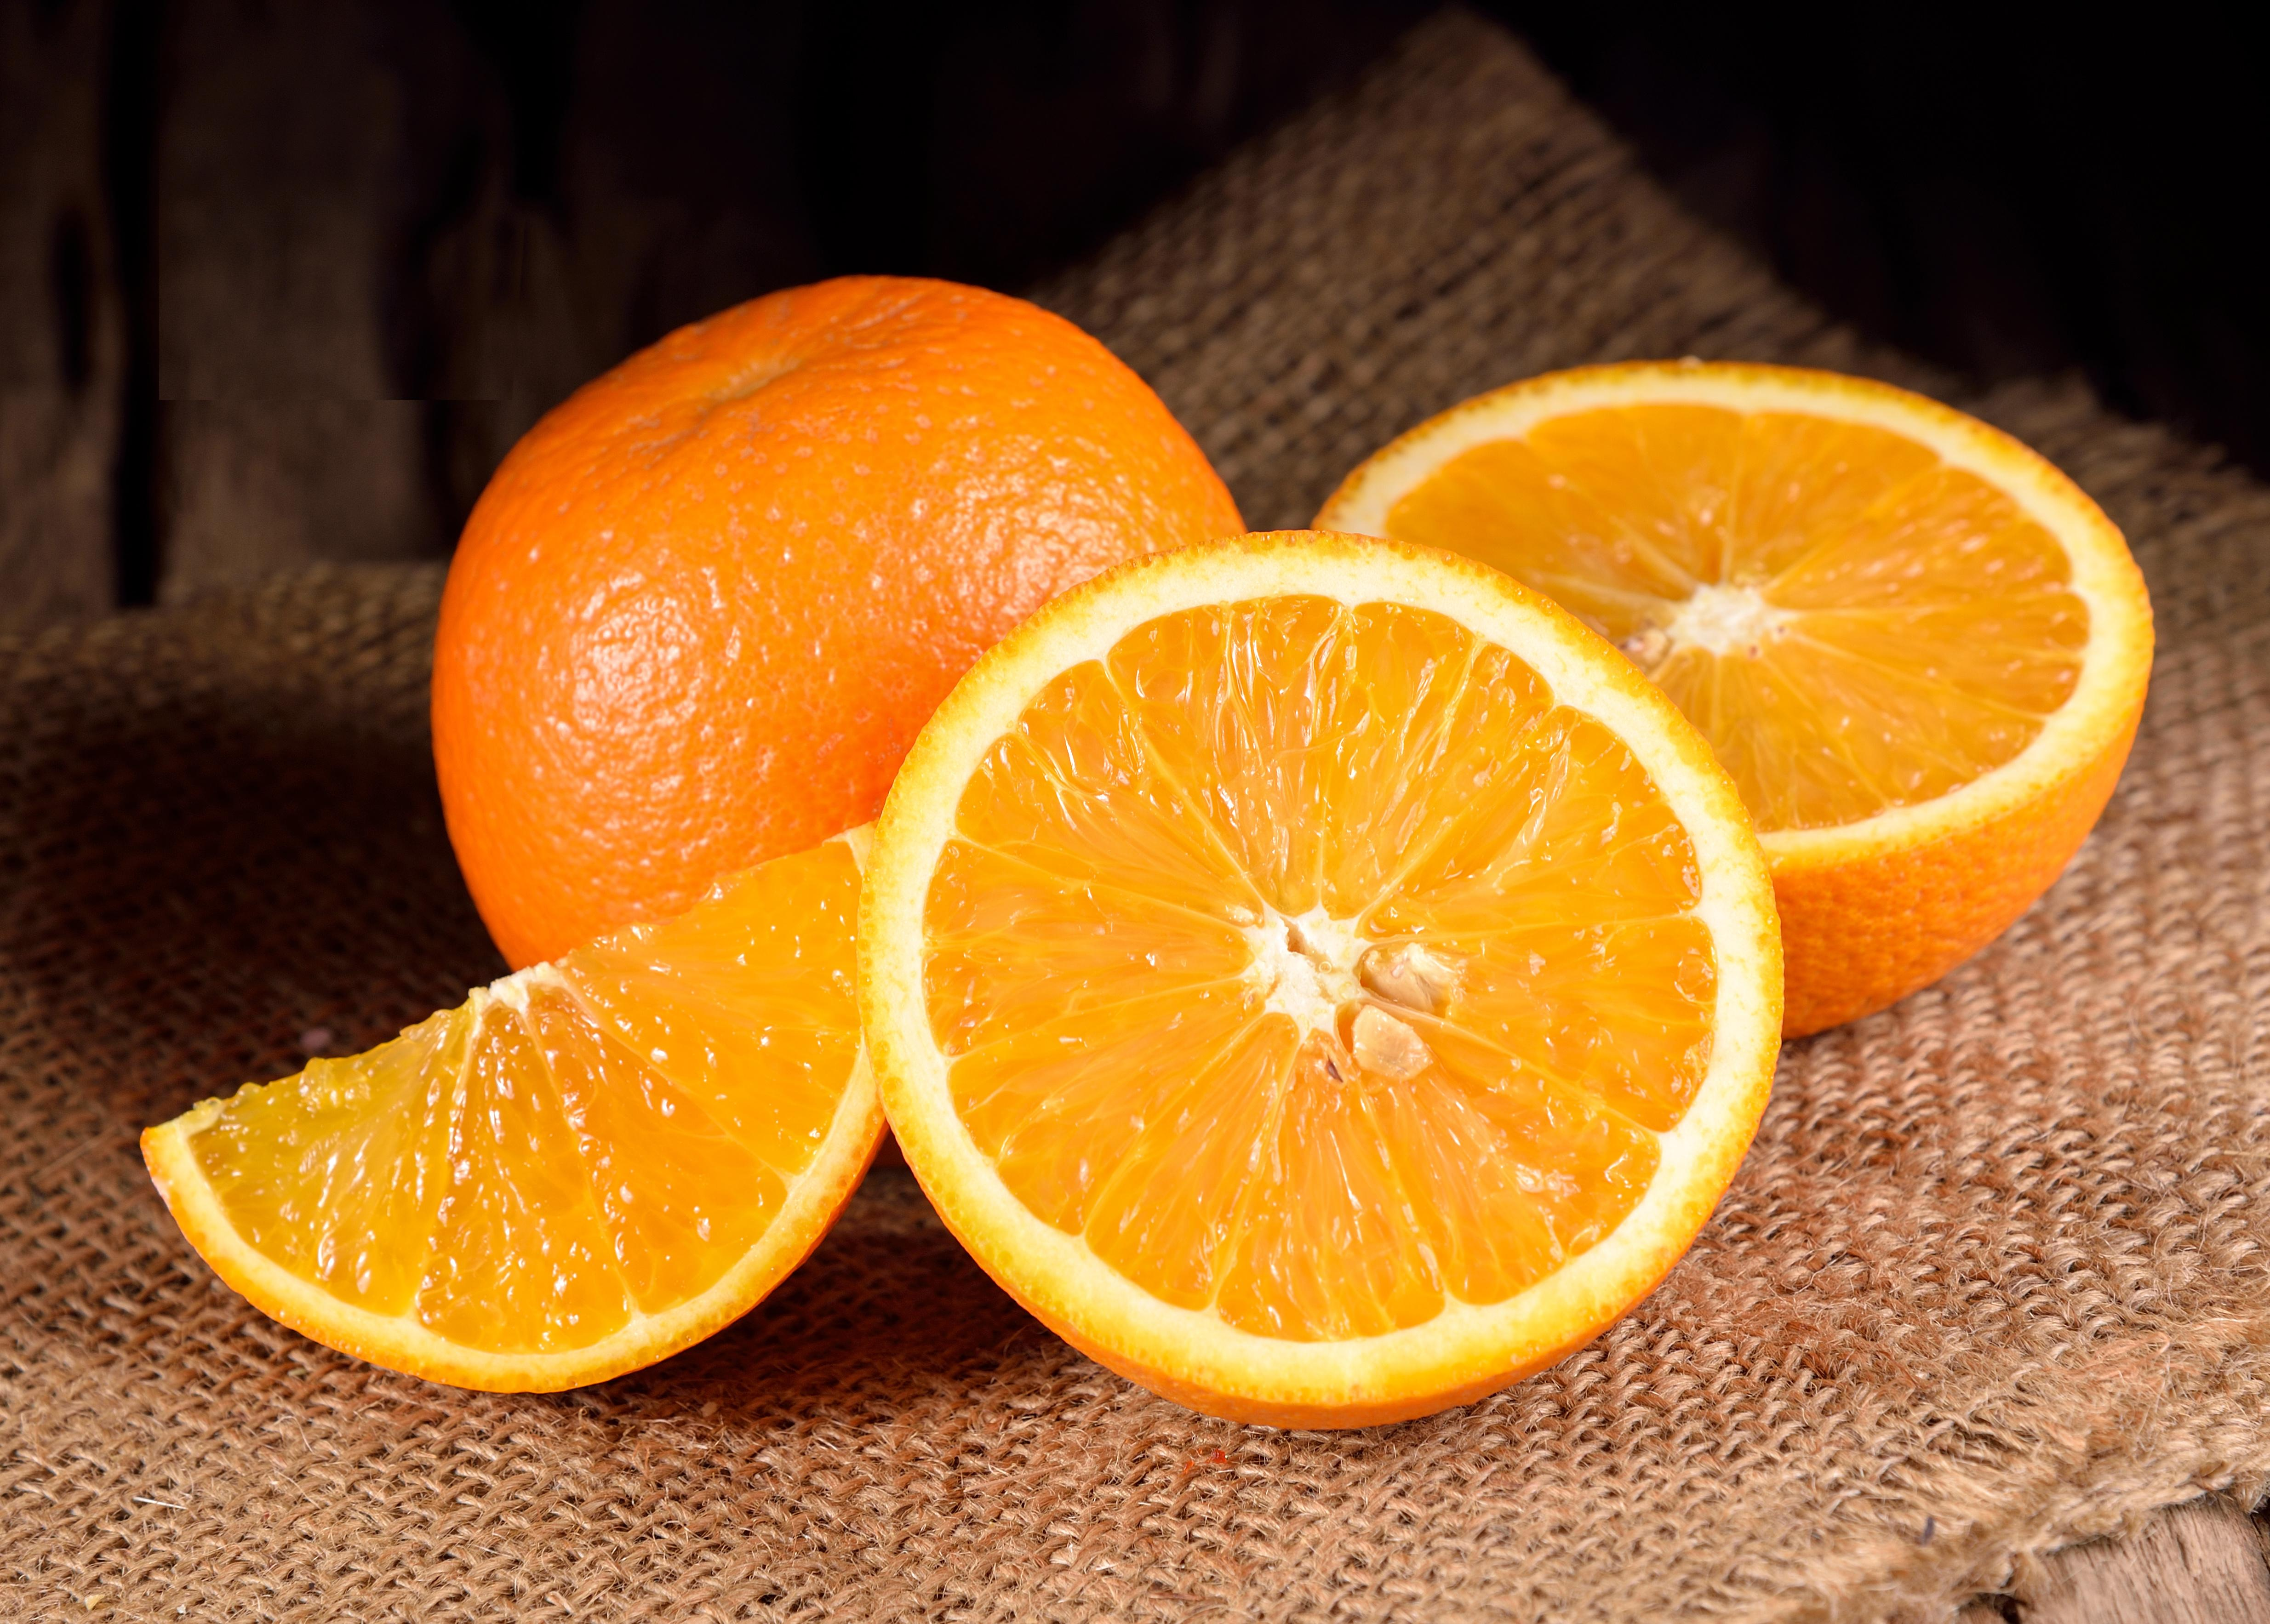Orange Fresh: (383, 228, 1273, 965)
